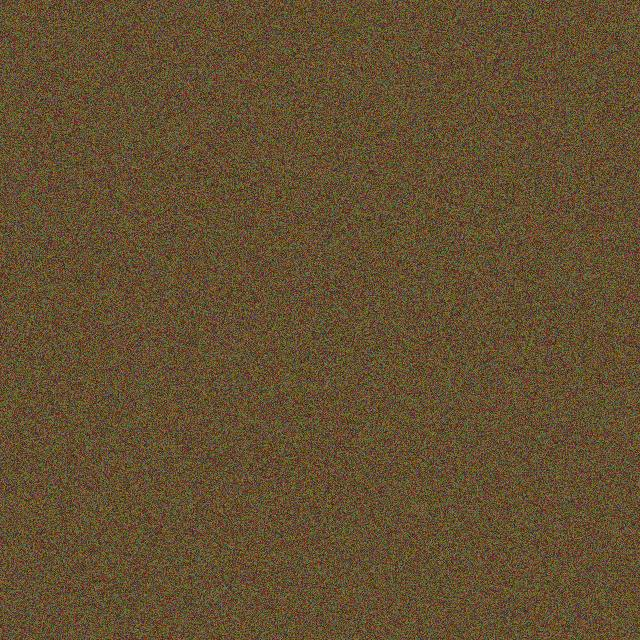metal_debris: (106, 352, 161, 439)
